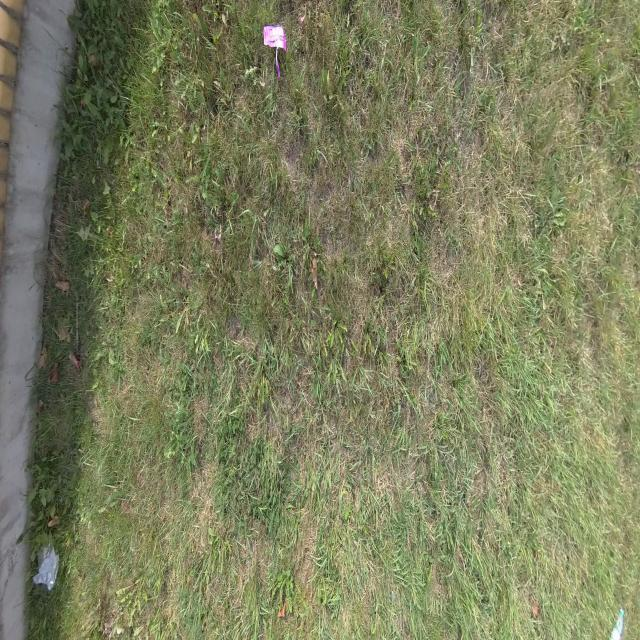rubbish: (34, 540, 60, 588), (264, 26, 286, 51), (611, 606, 622, 640)
